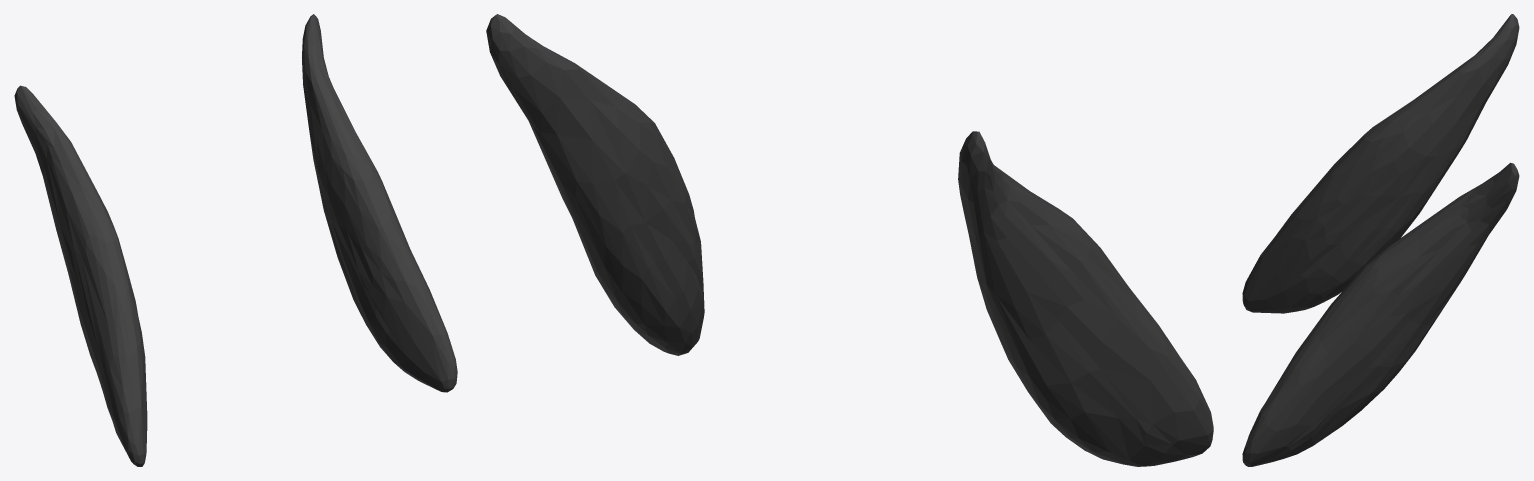
Rendered from m_triceps_brach_med.glb.
3 renders of one model, left to right at view 1: azimuth 30°, elevation 25°; view 2: azimuth 150°, elevation 25°; view 3: azimuth 270°, elevation 25°, orthographic. The views are drawn at different scales.
Parts seen in each view (by area): view 1: m_triceps_brach_med; view 2: m_triceps_brach_med; view 3: m_triceps_brach_med.
Boxes of the visible parts, box(x1,y1,x2,y2) form: m_triceps_brach_med: box(14, 14, 457, 466); m_triceps_brach_med: box(486, 14, 1213, 466); m_triceps_brach_med: box(1242, 14, 1519, 466).
Bounding box in the file's own units: 0.00346 × 0.00288 × 0.00241.
Materials: 1 (1 with a texture image).
